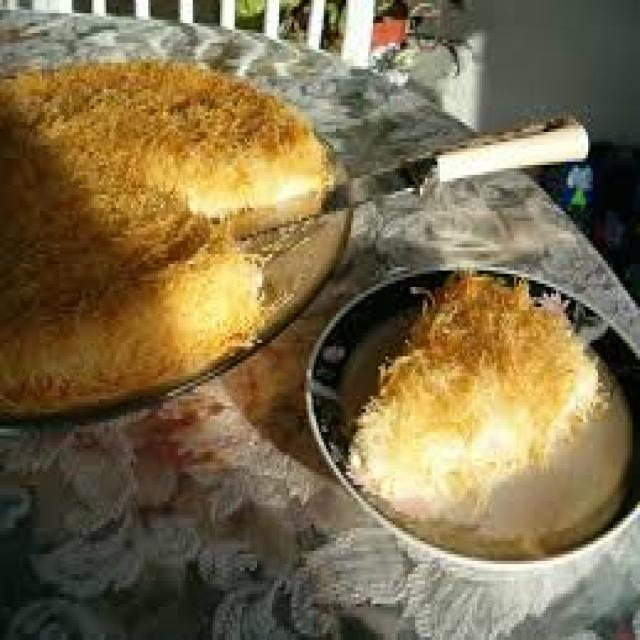konafa: (0, 47, 330, 429), (334, 256, 606, 528)
